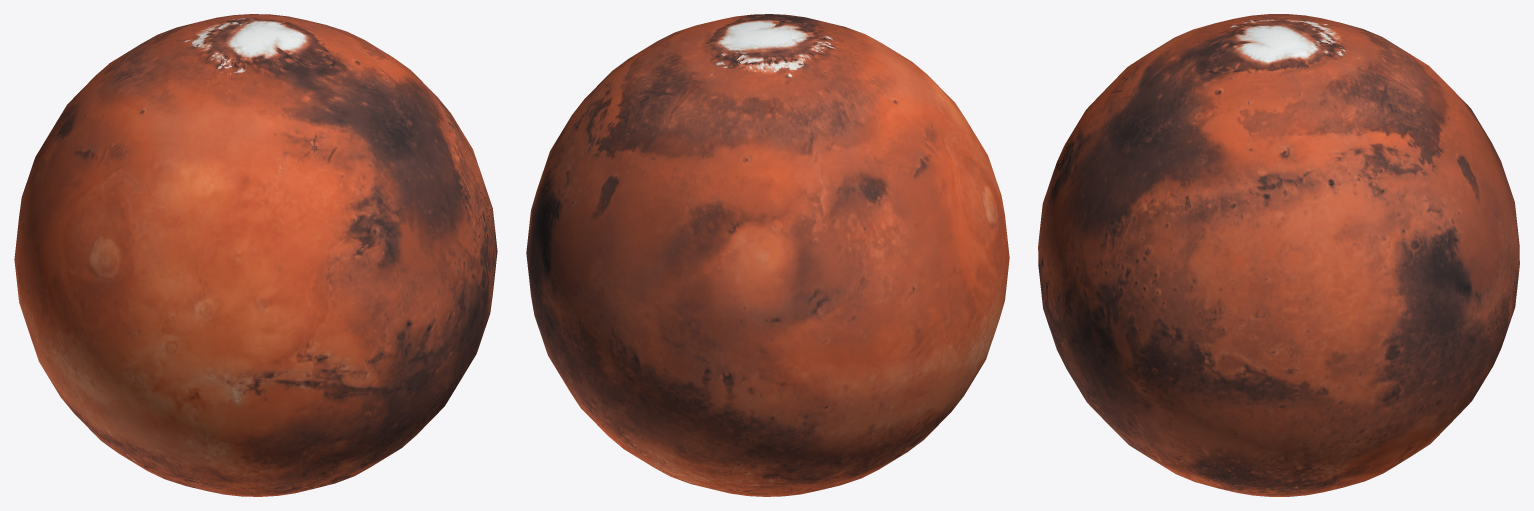
The model's file is Mars.glb.
3 views of the same model, side by side, from view 1: azimuth 30°, elevation 25°; view 2: azimuth 150°, elevation 25°; view 3: azimuth 270°, elevation 25° (orthographic).
Visible parts, largest first — view 1: Mars; view 2: Mars; view 3: Mars.
Boxes of the visible parts, x1,y1,x2,y2 form: Mars: (14,14,497,496); Mars: (526,14,1009,496); Mars: (1038,14,1519,496).
Size of the model in its own units: 0.4781 by 0.48 by 0.4781.
Materials: 1 (1 with a texture image).
